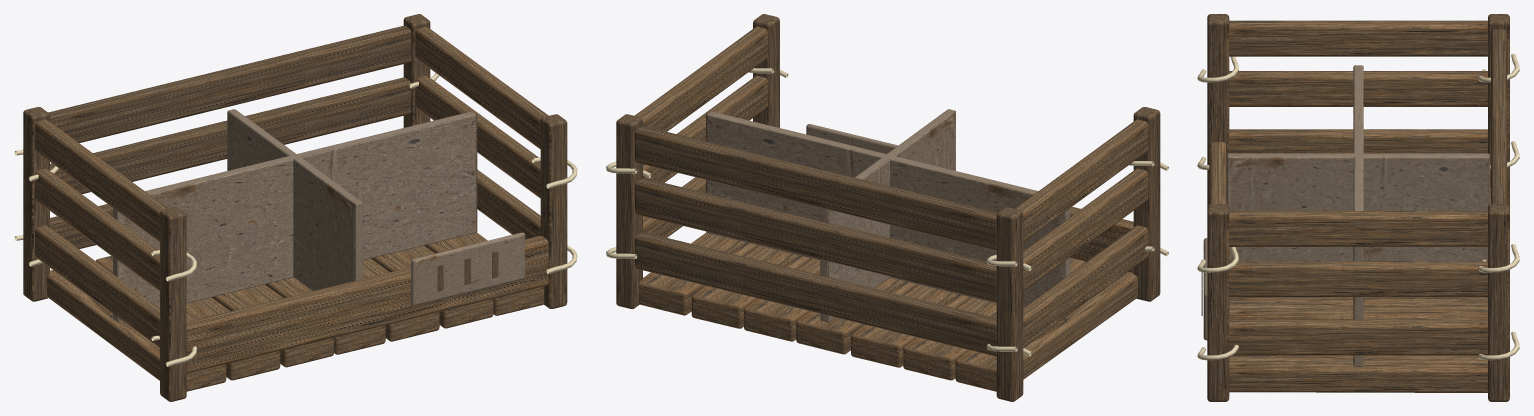
File: local_depot.glb
3 views of the same model, side by side, from view 1: azimuth 30°, elevation 25°; view 2: azimuth 150°, elevation 25°; view 3: azimuth 270°, elevation 25° (orthographic). The views are drawn at different scales.
Parts seen in each view (by area): view 1: local_depot_mesh; view 2: local_depot_mesh; view 3: local_depot_mesh.
Boxes of the visible parts, x1,y1,x2,y2 form: local_depot_mesh: (14,14,577,401); local_depot_mesh: (606,14,1168,401); local_depot_mesh: (1197,14,1519,401).
Bounding box in the file's own units: 1.68 × 0.72 × 1.1.
Materials: 4 (3 with a texture image).
